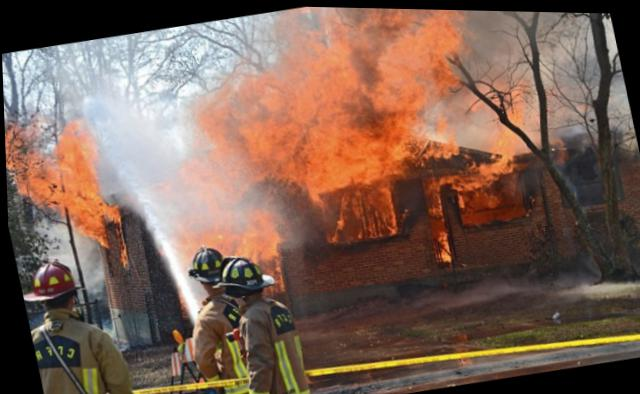fire: (130, 2, 518, 290), (4, 116, 137, 264)
